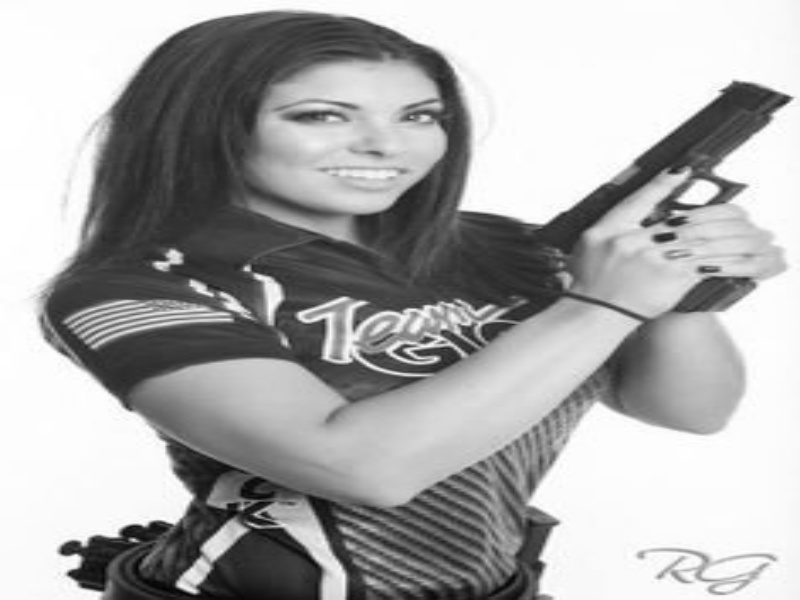knife: (29, 101, 788, 285), (54, 244, 776, 399), (34, 368, 745, 522)
